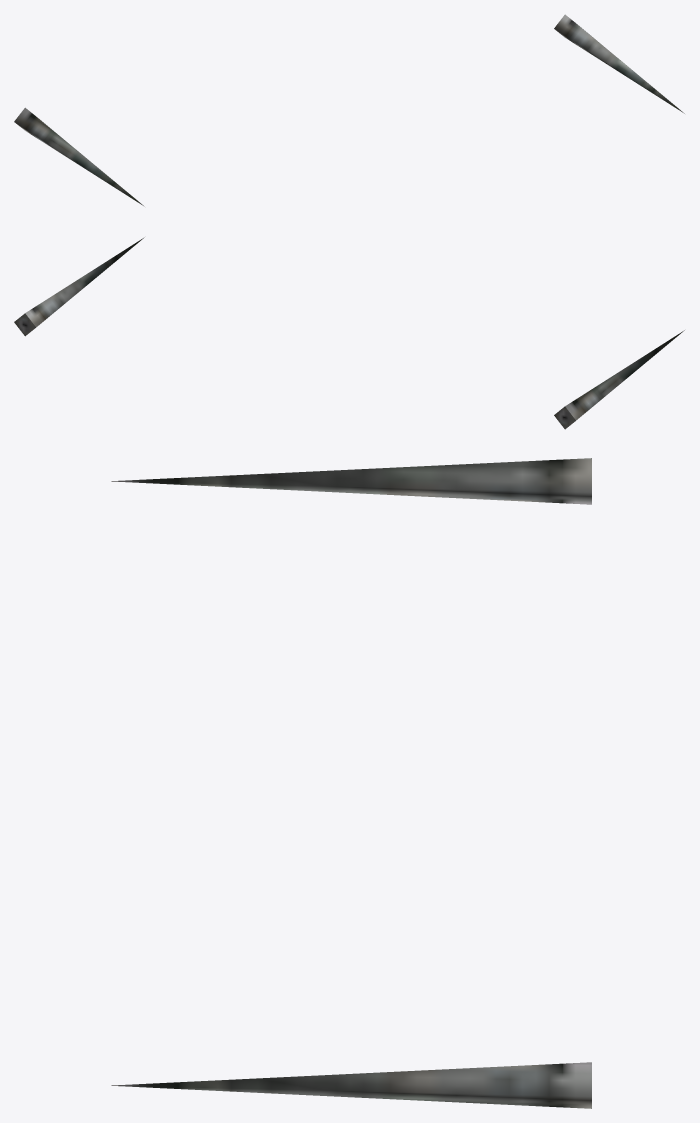
The model's file is xwing_weapon1_pos_s01_l3.fbx.
3 views of the same model, one above another, from view 1: azimuth 30°, elevation 25°; view 2: azimuth 150°, elevation 25°; view 3: azimuth 270°, elevation 25° (orthographic). The views are drawn at different scales.
Visible parts, largest first — view 1: mesh_node; view 2: mesh_node; view 3: mesh_node.
Part boxes in pixels (bbox=[...]): mesh_node: bbox=[14, 14, 684, 206]; mesh_node: bbox=[14, 237, 684, 429]; mesh_node: bbox=[111, 458, 591, 1108].
Size of the model in its own units: 12.94 by 1.36 by 4.83.
Materials: 1 (1 with a texture image).
